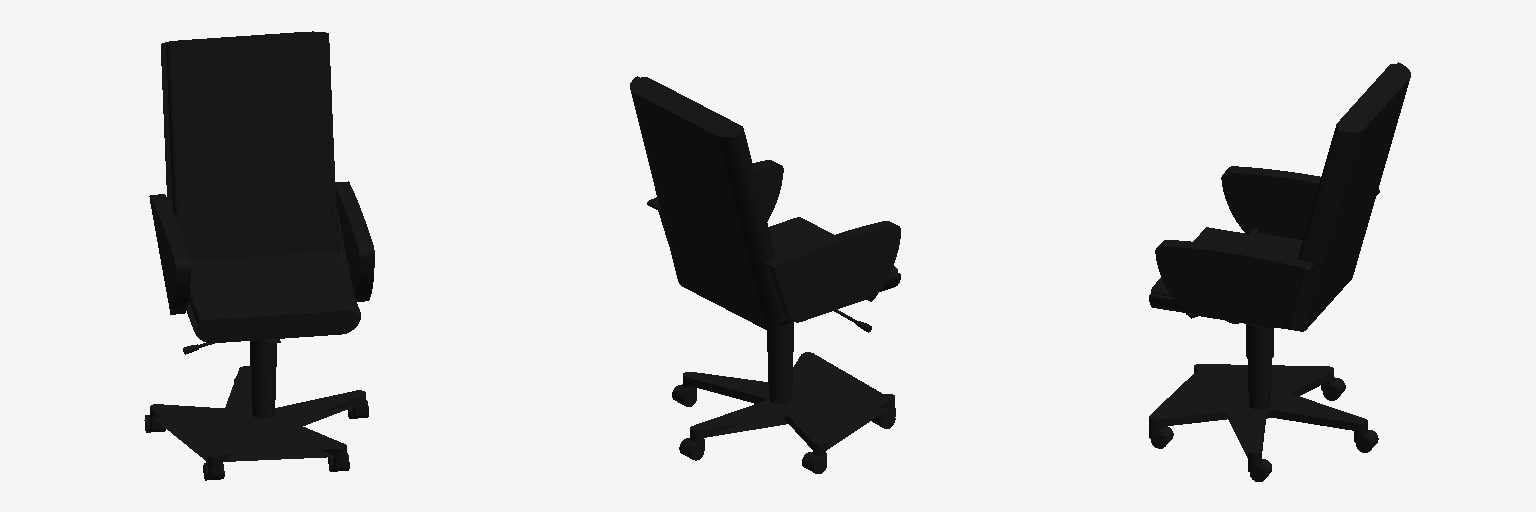
The model's file is chair1b.obj.
3 renders of one model, left to right at view 1: azimuth 30°, elevation 25°; view 2: azimuth 150°, elevation 25°; view 3: azimuth 270°, elevation 25°, orthographic.
Parts seen in each view (by area): view 1: Mesh23 Group5 Group4 Group1 Component_5_1 Model, Mesh14 Group15 Group8 Group7 Group6 Group5 Group4 Group1 Compone, Mesh29 Group32 Group31 Group30 Group4 Group1 Component_5_1 Model, Mesh24 Group28 Group27 Group26 Group4 Group1 Component_5_1 Model, Mesh20 Group7 Group6 Group5 Group4 Group1 Component_5_1 Model; view 2: Mesh23 Group5 Group4 Group1 Component_5_1 Model, Mesh14 Group15 Group8 Group7 Group6 Group5 Group4 Group1 Compone, Mesh29 Group32 Group31 Group30 Group4 Group1 Component_5_1 Model, Mesh30 Group33 Group31 Group30 Group4 Group1 Component_5_1 Model, Mesh20 Group7 Group6 Group5 Group4 Group1 Component_5_1 Model, Mesh24 Group28 Group27 Group26 Group4 Group1 Component_5_1 Model; view 3: Mesh23 Group5 Group4 Group1 Component_5_1 Model, Mesh14 Group15 Group8 Group7 Group6 Group5 Group4 Group1 Compone, Mesh24 Group28 Group27 Group26 Group4 Group1 Component_5_1 Model, Mesh29 Group32 Group31 Group30 Group4 Group1 Component_5_1 Model, Mesh25 Group29 Group27 Group26 Group4 Group1 Component_5_1 Model, Mesh20 Group7 Group6 Group5 Group4 Group1 Component_5_1 Model, Mesh30 Group33 Group31 Group30 Group4 Group1 Component_5_1 Model.
Part boxes in pixels (x1,y1,x2,y2): Mesh23 Group5 Group4 Group1 Component_5_1 Model: (161,31,360,342); Mesh14 Group15 Group8 Group7 Group6 Group5 Group4 Group1 Compone: (150,366,365,464); Mesh29 Group32 Group31 Group30 Group4 Group1 Component_5_1 Model: (149,194,190,314); Mesh24 Group28 Group27 Group26 Group4 Group1 Component_5_1 Model: (335,181,374,301); Mesh20 Group7 Group6 Group5 Group4 Group1 Component_5_1 Model: (250,340,276,418); Mesh23 Group5 Group4 Group1 Component_5_1 Model: (630,76,900,329); Mesh14 Group15 Group8 Group7 Group6 Group5 Group4 Group1 Compone: (683,352,894,452); Mesh29 Group32 Group31 Group30 Group4 Group1 Component_5_1 Model: (765,221,900,301); Mesh30 Group33 Group31 Group30 Group4 Group1 Component_5_1 Model: (771,269,867,322); Mesh20 Group7 Group6 Group5 Group4 Group1 Component_5_1 Model: (767,322,793,403); Mesh24 Group28 Group27 Group26 Group4 Group1 Component_5_1 Model: (647,160,783,221); Mesh23 Group5 Group4 Group1 Component_5_1 Model: (1149,62,1410,331); Mesh14 Group15 Group8 Group7 Group6 Group5 Group4 Group1 Compone: (1149,364,1367,460); Mesh24 Group28 Group27 Group26 Group4 Group1 Component_5_1 Model: (1155,240,1313,318); Mesh29 Group32 Group31 Group30 Group4 Group1 Component_5_1 Model: (1221,166,1379,233); Mesh25 Group29 Group27 Group26 Group4 Group1 Component_5_1 Model: (1200,274,1305,327); Mesh20 Group7 Group6 Group5 Group4 Group1 Component_5_1 Model: (1246,324,1273,409); Mesh30 Group33 Group31 Group30 Group4 Group1 Component_5_1 Model: (1252,216,1309,241).
Bounding box in the file's own units: 9.7 × 15.38 × 10.31.